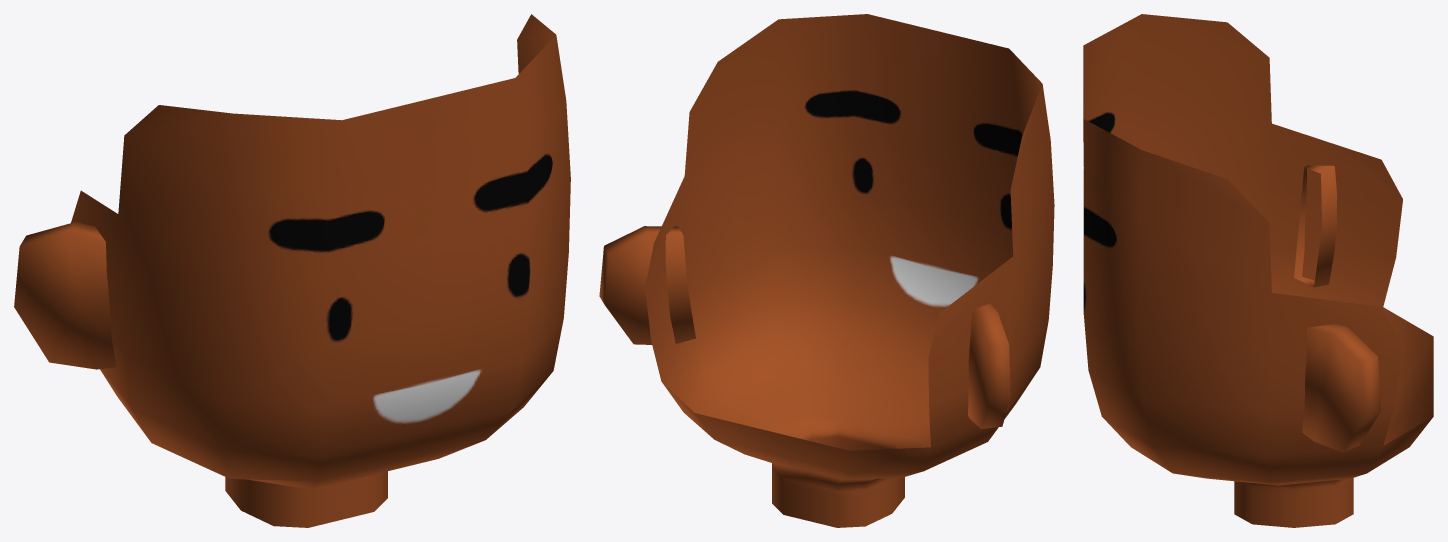
File: NPC_Yellow_Head.gltf
3 renders of one model, left to right at view 1: azimuth 30°, elevation 25°; view 2: azimuth 150°, elevation 25°; view 3: azimuth 270°, elevation 25°, orthographic. The views are drawn at different scales.
Parts seen in each view (by area): view 1: NPC_Yellow_Head; view 2: NPC_Yellow_Head; view 3: NPC_Yellow_Head.
Part boxes in pixels (left/top/right/bottom): NPC_Yellow_Head: left=14, top=14, right=570, bottom=527; NPC_Yellow_Head: left=599, top=14, right=1054, bottom=527; NPC_Yellow_Head: left=1083, top=14, right=1433, bottom=527.
Size of the model in its own units: 0.5931 by 0.5464 by 0.4151.
1 material, 1 textured.
